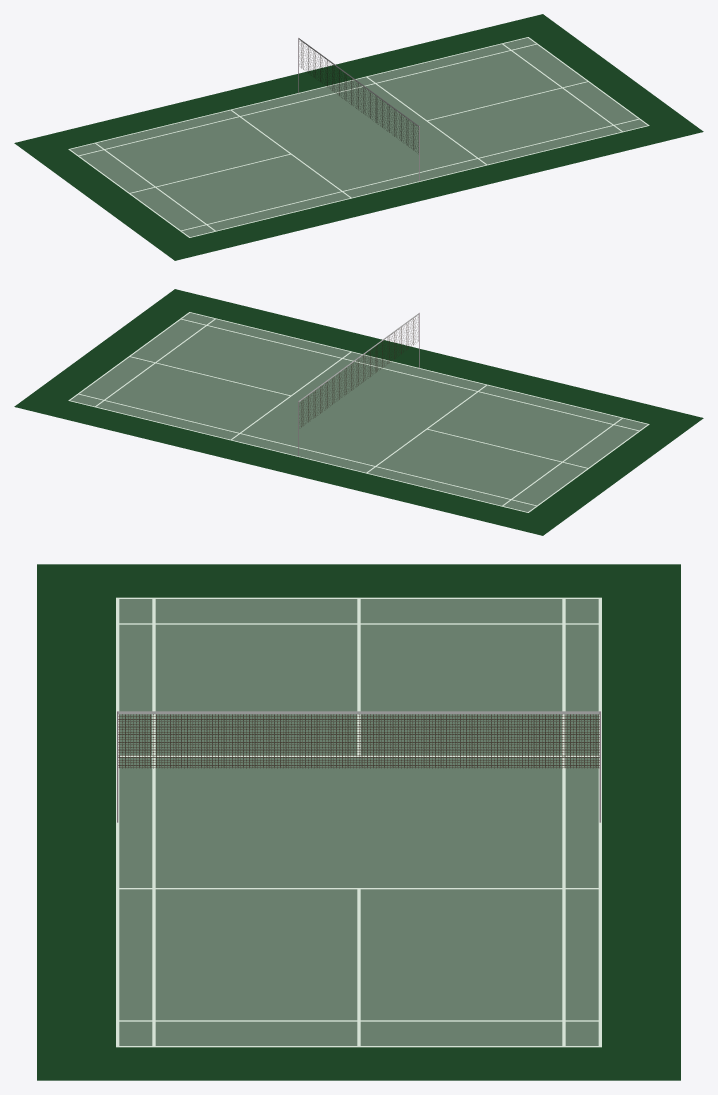
Rendered from court.fbx.
3 renders of one model, top to bottom at view 1: azimuth 30°, elevation 25°; view 2: azimuth 150°, elevation 25°; view 3: azimuth 270°, elevation 25°, orthographic. The views are drawn at different scales.
Parts seen in each view (by area): view 1: floor, net; view 2: floor, net; view 3: floor, net.
Part boxes in pixels (bbox=[...]): floor: bbox=[14, 14, 703, 260]; net: bbox=[299, 38, 418, 152]; floor: bbox=[14, 289, 703, 535]; net: bbox=[299, 313, 418, 427]; floor: bbox=[37, 564, 680, 1080]; net: bbox=[118, 711, 599, 768].
Bounding box in the file's own units: 1544 × 155 × 814.
6 materials, 1 textured.
